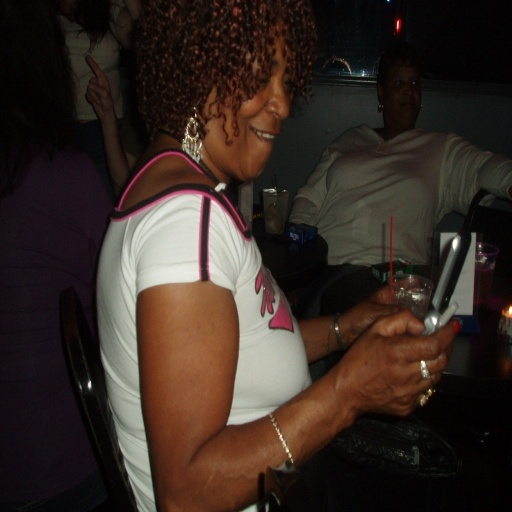hand: (323, 300, 464, 421), (350, 275, 424, 350), (83, 54, 114, 122)
